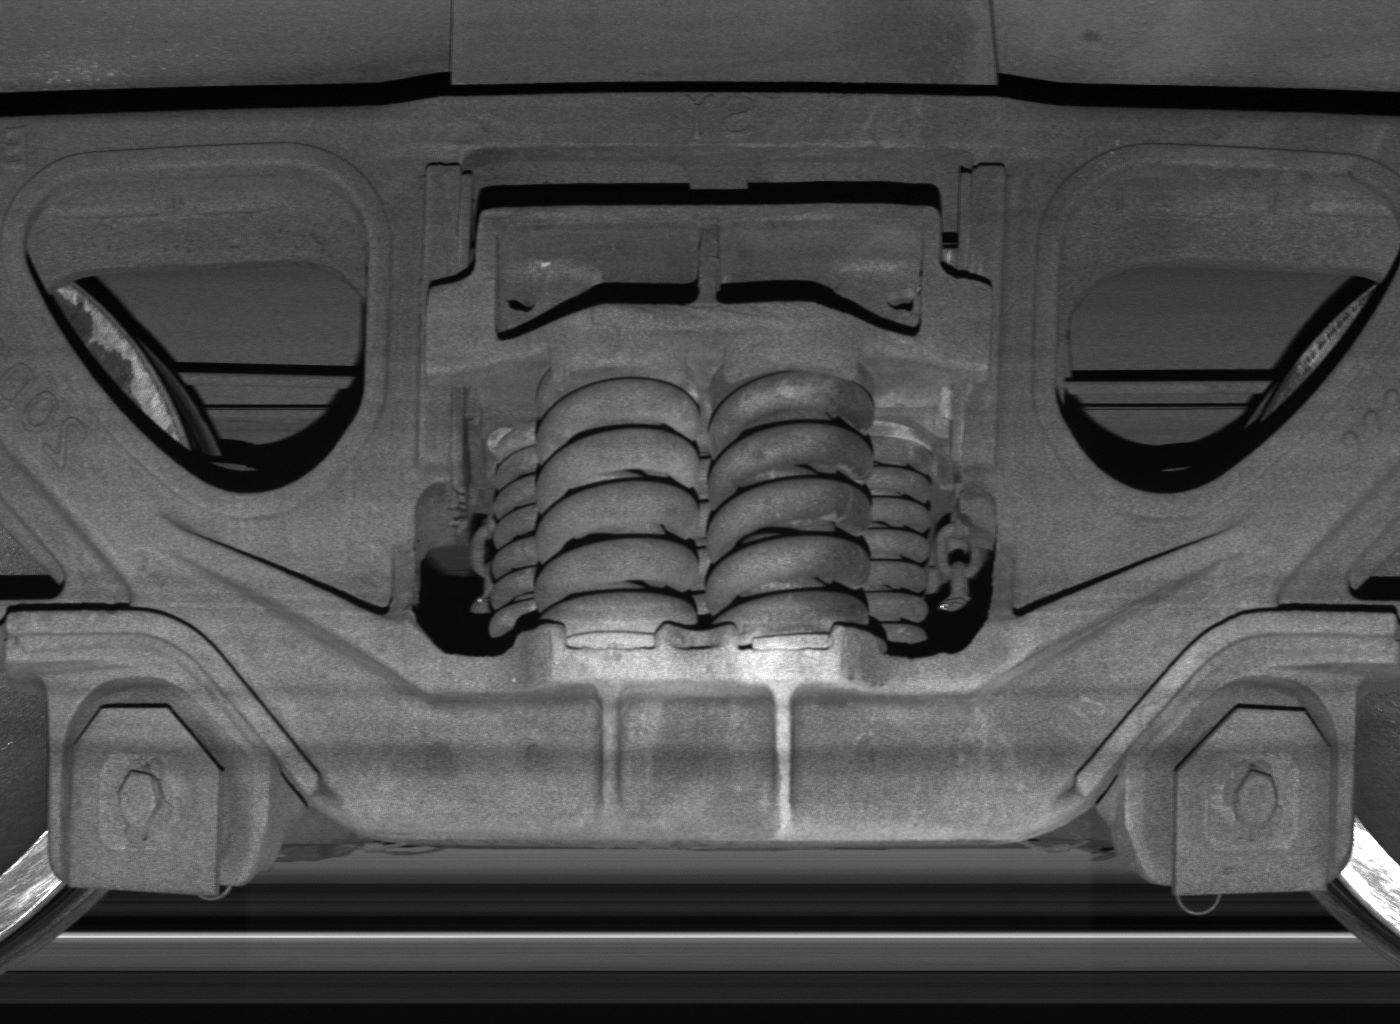normal: (47, 678, 272, 892), (1143, 678, 1354, 899)
